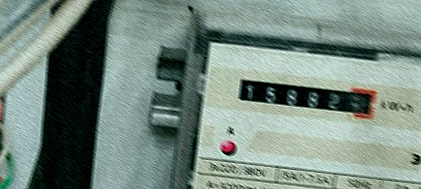1: (243, 82, 254, 98)
2: (327, 90, 339, 108)
5: (264, 84, 276, 101)
7: (349, 100, 359, 112)
8: (306, 89, 318, 107), (285, 87, 297, 104)
screen: (230, 68, 382, 124)
